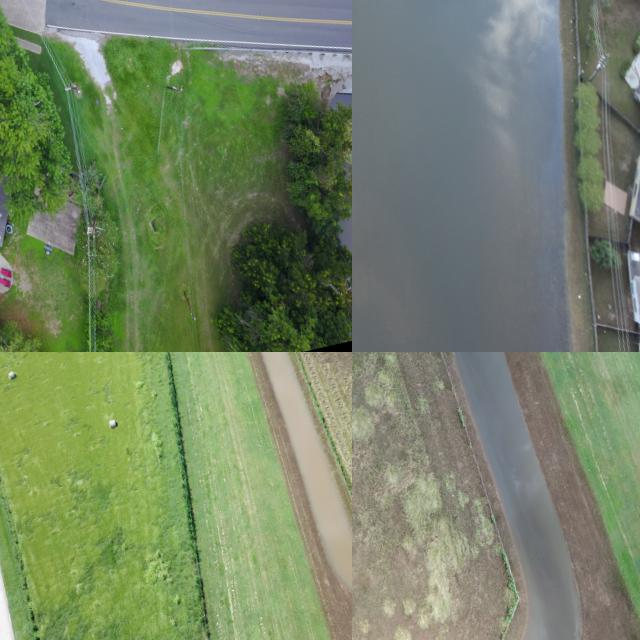fire: (352, 0, 578, 352), (352, 0, 570, 352), (453, 352, 581, 640), (262, 352, 352, 592)
